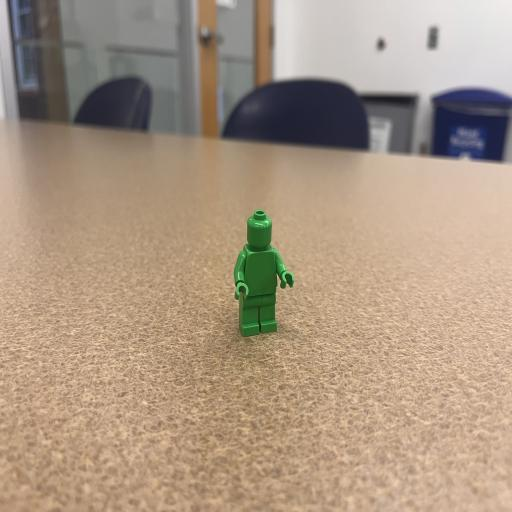Lego-Minifig: (234, 210, 294, 336), (247, 210, 271, 249)
